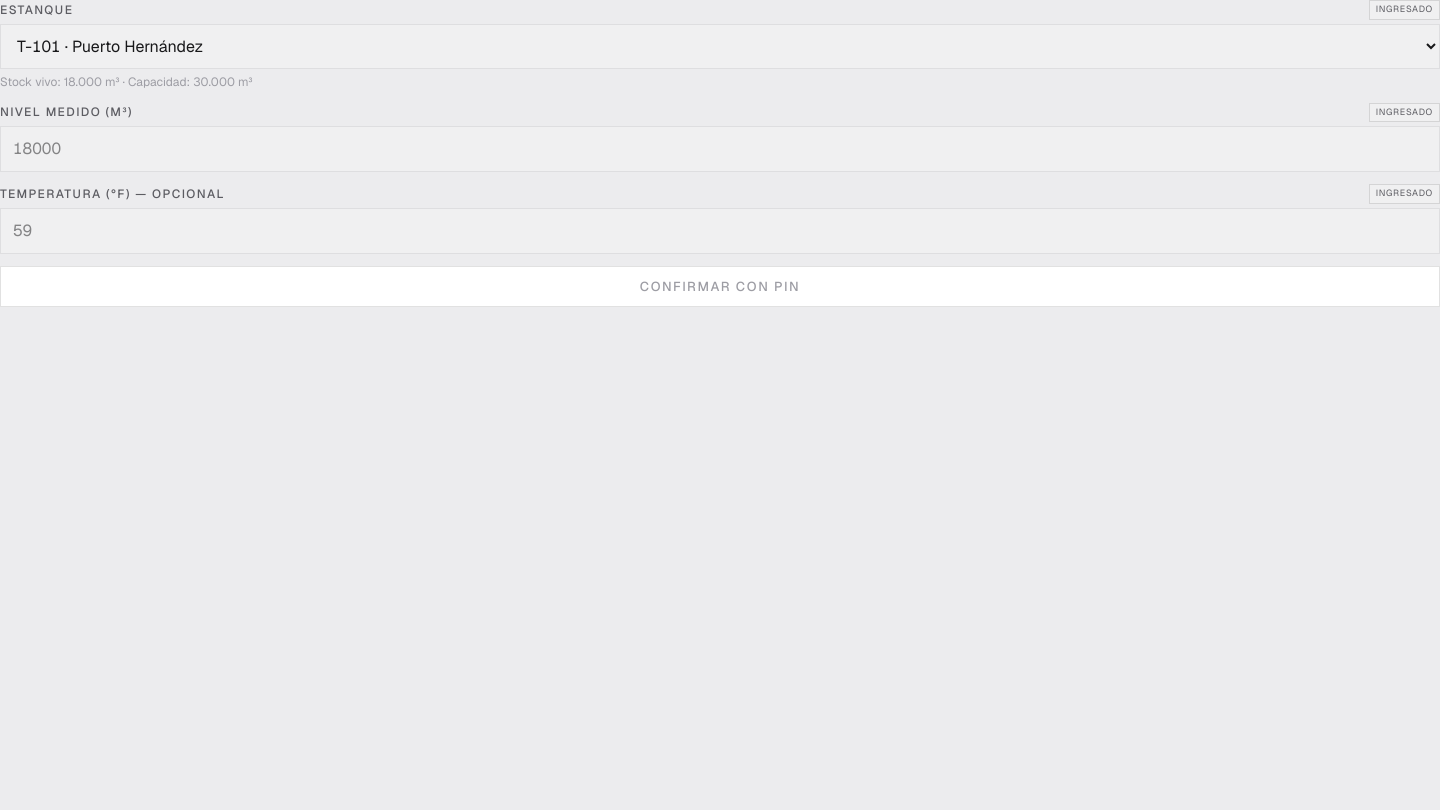
TankReadingForm › rejects the commit attempt when no roster session exists
This screenshot has width=1440, height=810.
Type "18100" into the field labelled "Nivel medido (m³)" at (720, 149), box 0,126 -> 1439,172
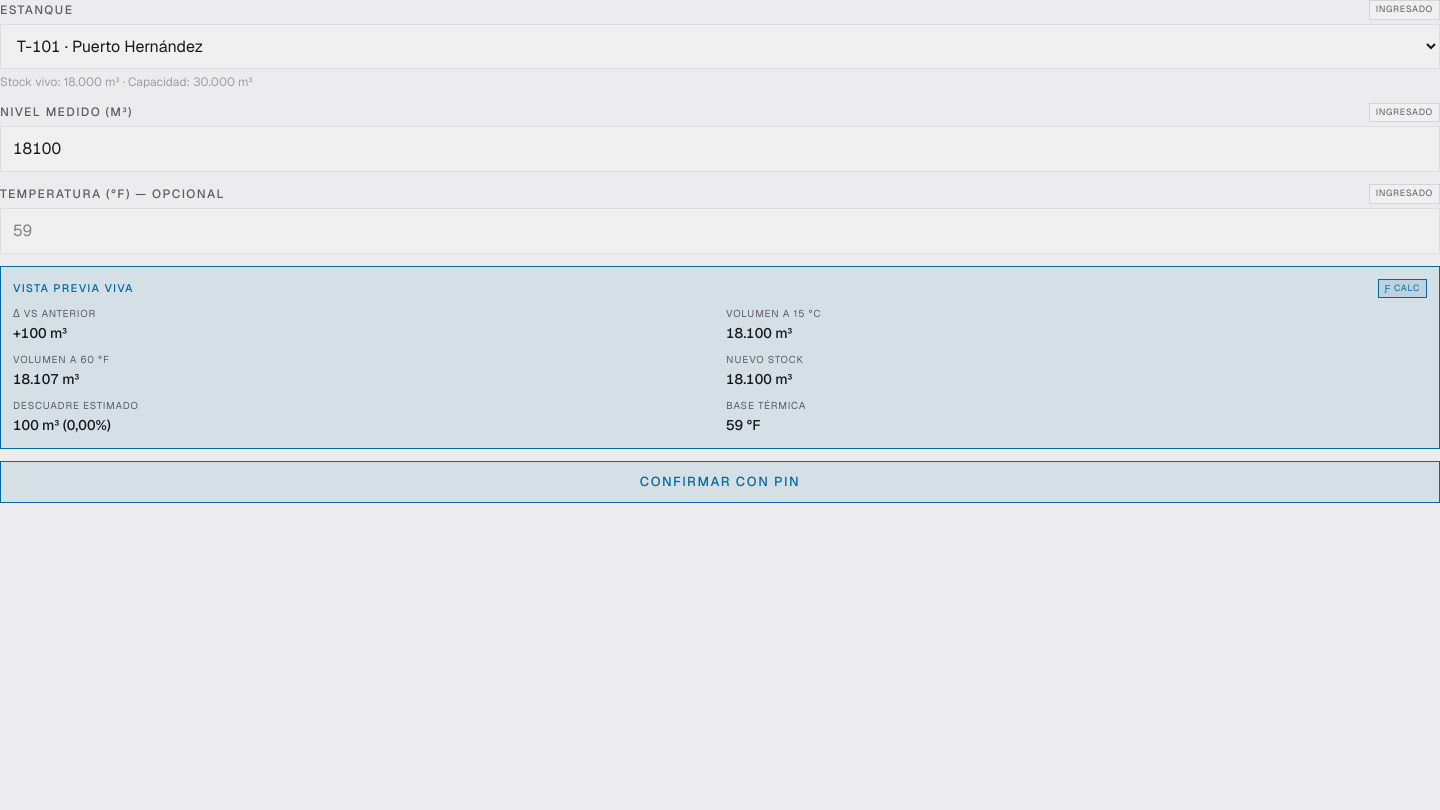
Click the button "Confirmar con PIN" at (720, 482), box 0,461 -> 1439,502
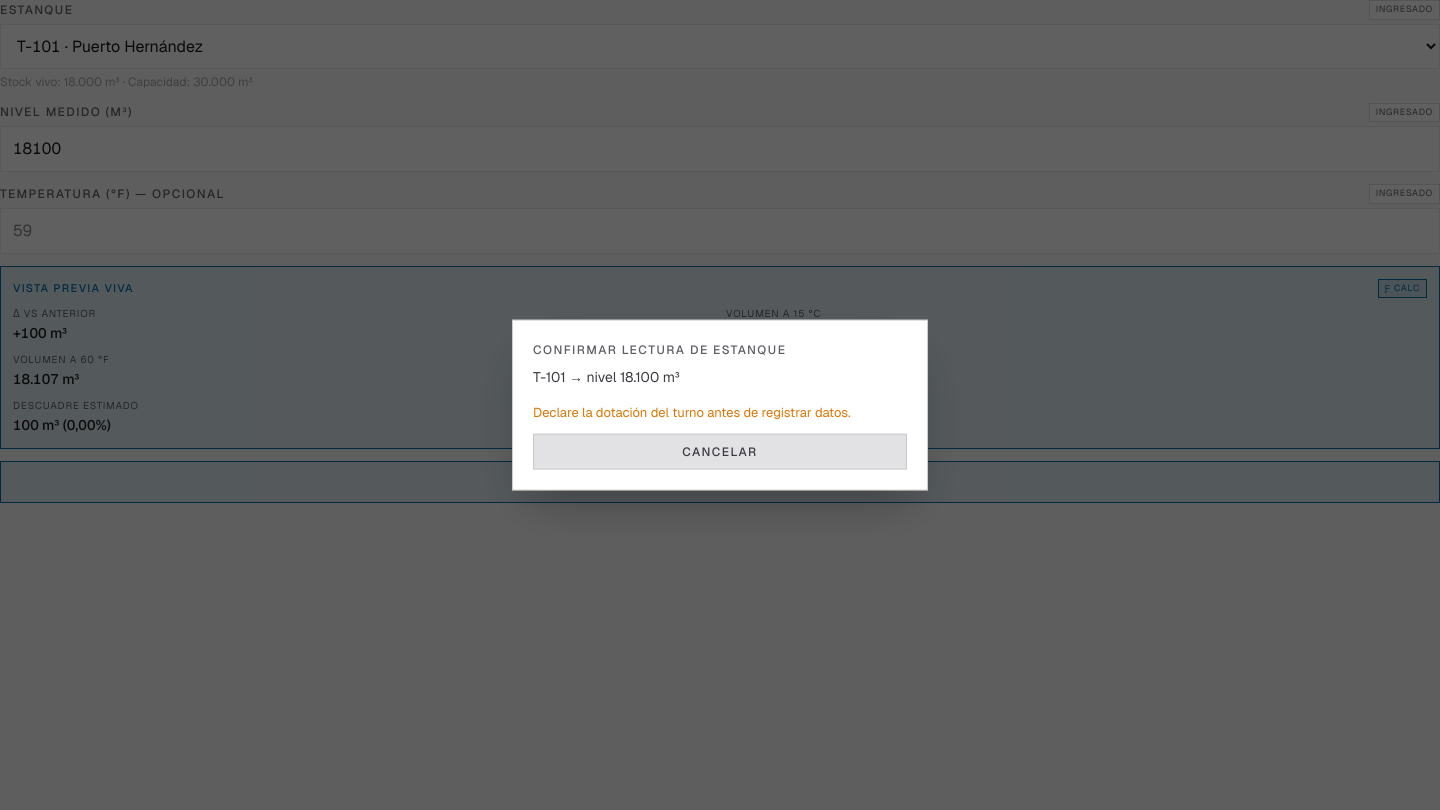
Expected: the text "Declare la dotación del turno antes de registrar datos." is shown, 533,404 -> 851,421
